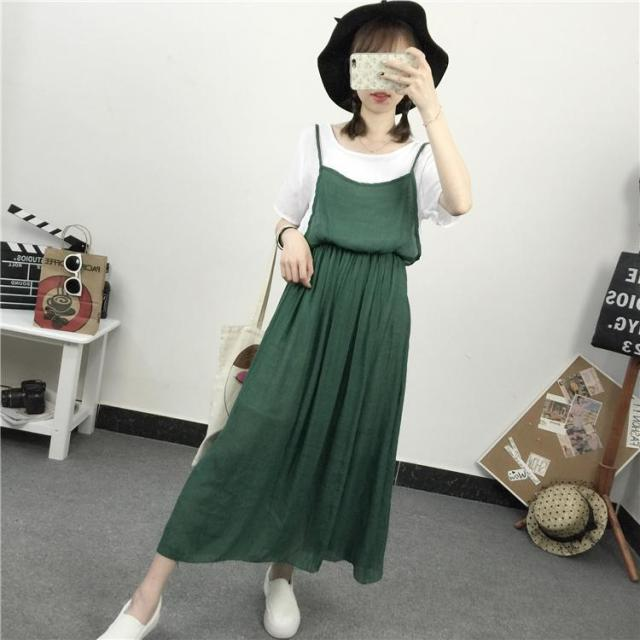short sleeve top: (273, 122, 461, 271)
sling dress: (157, 125, 432, 585)
